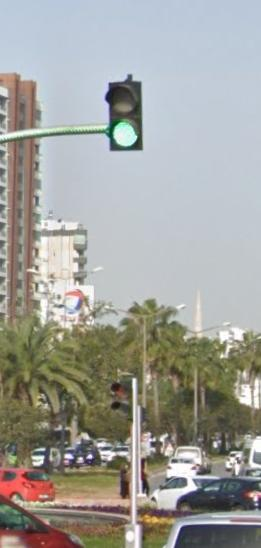greenlight: (106, 77, 145, 151)
